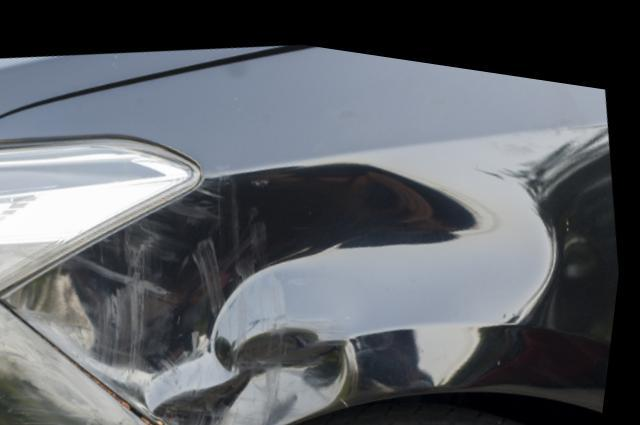dent: (13, 150, 551, 425)
scratch: (0, 304, 172, 425)
